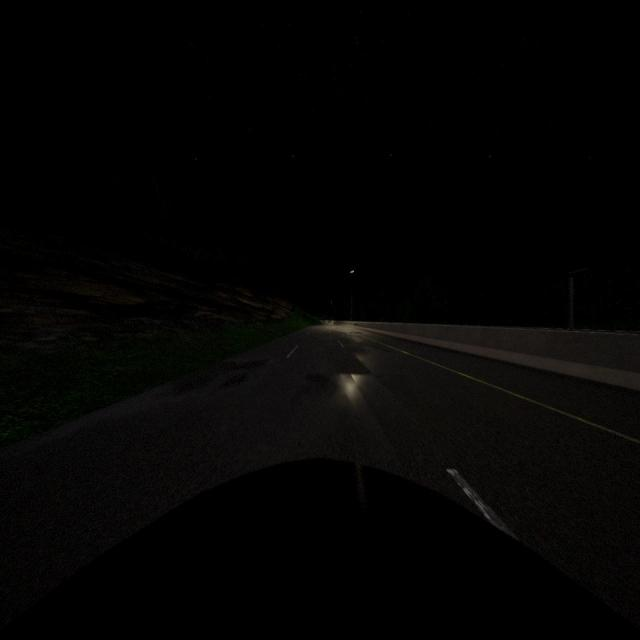Vehicle: (1, 453, 640, 639)
